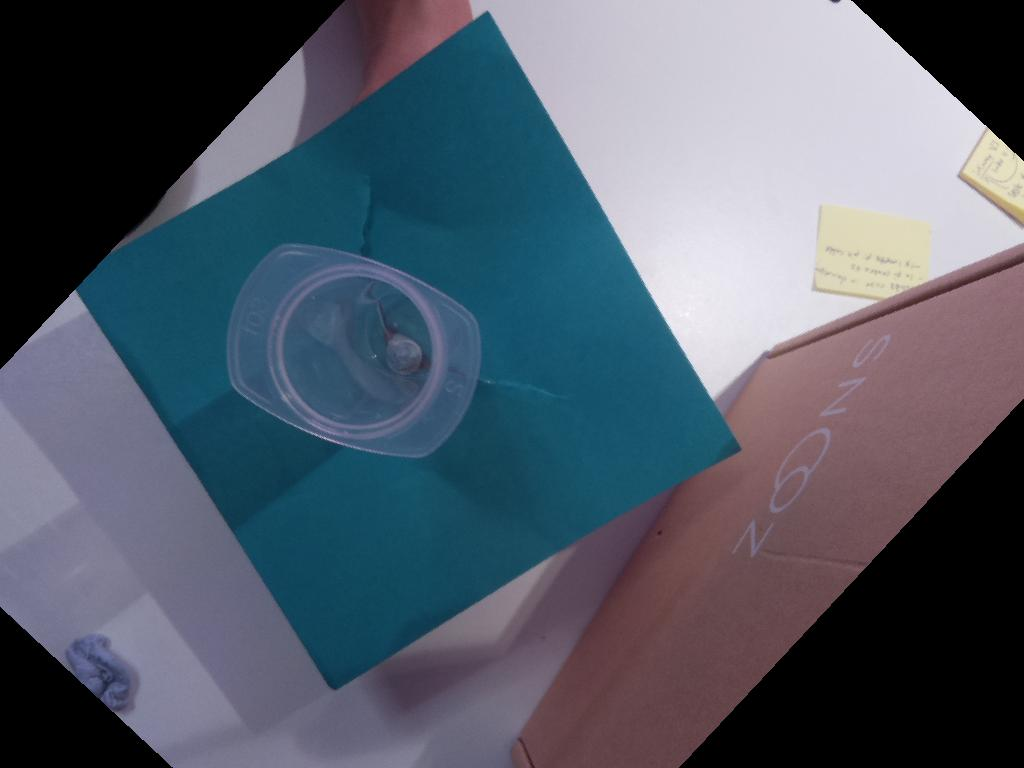clean: (226, 241, 483, 462)
